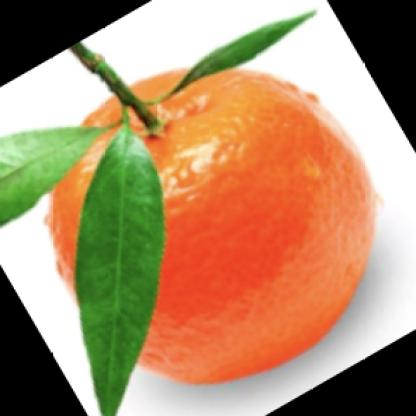fresh: (47, 68, 376, 385)
